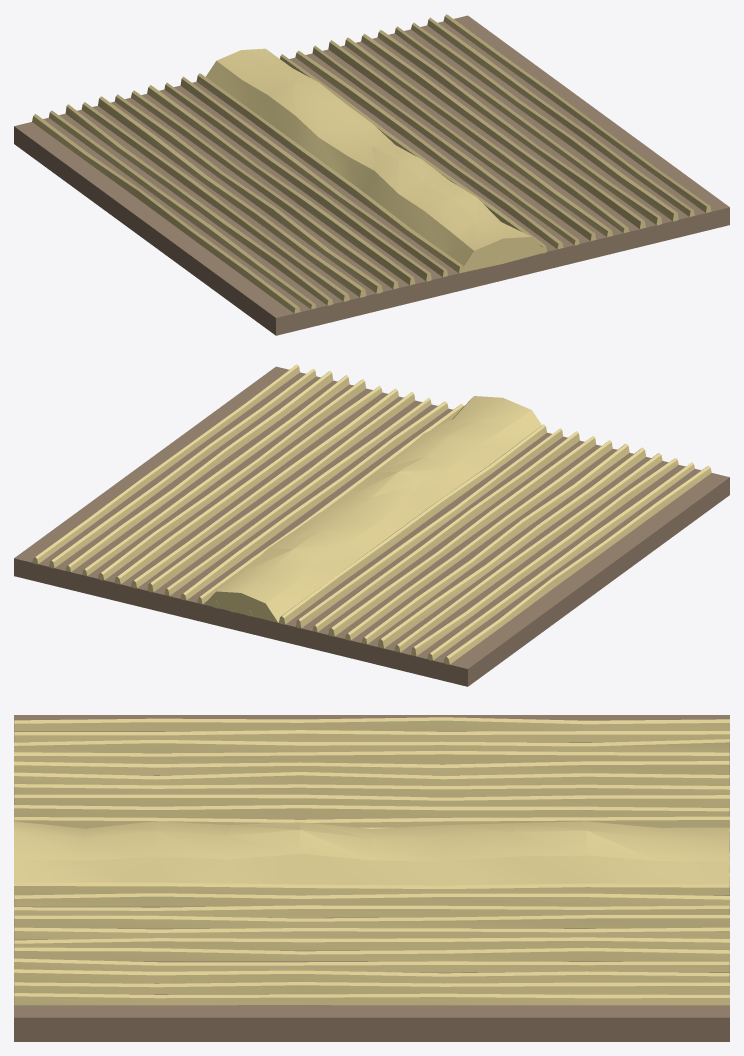
File: arable-fields-and-farm-machinery-field-tile-harvested--71e970e5__16876.glb
3 views of the same model, one above another, from view 1: azimuth 30°, elevation 25°; view 2: azimuth 150°, elevation 25°; view 3: azimuth 270°, elevation 25° (orthographic). The views are drawn at different scales.
Visible parts, largest first — view 1: field-tile-harvested-swath; view 2: field-tile-harvested-swath; view 3: field-tile-harvested-swath.
Part boxes in pixels (bbox=[...]): field-tile-harvested-swath: bbox=[14, 14, 729, 335]; field-tile-harvested-swath: bbox=[14, 364, 729, 686]; field-tile-harvested-swath: bbox=[14, 715, 729, 1041].
Size of the model in its own units: 8 by 0.7481 by 8.
